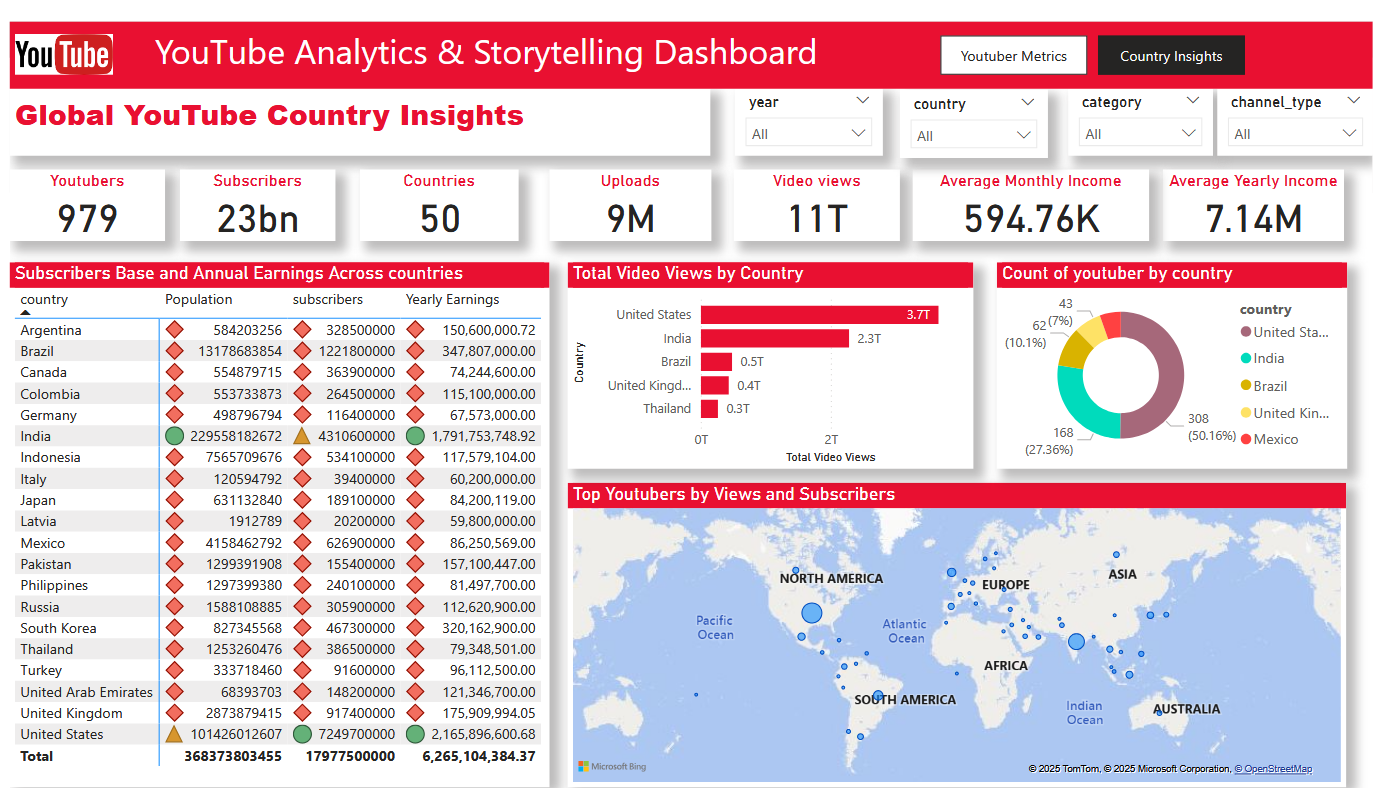

What the dashboard file says about the page in this screenshot:
{"tool":"powerbi","page":{"name":"Country Insights","canvas":[1280,720],"ordinal":1},"visuals":[{"type":"textbox","box":[0,0,1280,62.8],"z":0,"group":"g1"},{"type":"slicer","fields":{"Values":["calender.year"]},"box":[681,61.9,139.3,63.8],"z":0},{"type":"slicer","fields":{"Values":["GLOBAL YOUTUBE DATA.category"]},"box":[994.4,61.9,135.4,63.8],"z":1000},{"type":"slicer","fields":{"Values":["GLOBAL YOUTUBE DATA.channel_type"]},"box":[1133.6,61.9,147,63.8],"z":2000},{"type":"textbox","box":[0,62.8,658.2,62.8],"z":3000},{"type":"card","title":"Youtubers","fields":{"Values":["DAX Measures.total youtubers"]},"box":[0,139.3,145.7,66.4],"z":4000},{"type":"card","title":"Subscribers","fields":{"Values":["DAX Measures.total subscribers"]},"box":[160.3,139.3,145.7,66.4],"z":5000},{"type":"card","title":"Countries","fields":{"Values":["DAX Measures.total countries"]},"box":[328.7,139.3,149,66.4],"z":6000},{"type":"card","title":"Uploads","fields":{"Values":["DAX Measures.total uploads"]},"box":[506.8,139.3,152.2,66.4],"z":7000},{"type":"card","title":"Video views","fields":{"Values":["DAX Measures.total video views"]},"box":[680.1,139.3,155.4,66.4],"z":8000},{"type":"card","title":"Average Yearly Income","fields":{"Values":["DAX Measures.avg yearly earning"]},"box":[1083.3,139.3,170,66.4],"z":9000},{"type":"card","title":"Average  Monthly  Income","fields":{"Values":["DAX Measures.avg monthly earnings"]},"box":[848.5,139.3,221.8,66.4],"z":10000},{"type":"slicer","fields":{"Values":["GLOBAL YOUTUBE DATA.country"]},"box":[835.7,63.8,139.3,63.8],"z":11000},{"type":"pivotTable","title":"Subscribers  Base and Annual Earnings Across countries","fields":{"Rows":["GLOBAL YOUTUBE DATA.country"],"Values":["Sum(GLOBAL YOUTUBE DATA.population)","Sum(GLOBAL YOUTUBE DATA.subscribers)","Sum(GLOBAL YOUTUBE DATA.highest_yearly_earnings)"]},"box":[0,225.9,506.8,493.5],"z":12000},{"type":"map","title":"Top Youtubers by Views and Subscribers","fields":{"X":["GLOBAL YOUTUBE DATA.longitude"],"Y":["GLOBAL YOUTUBE DATA.latitude"],"Size":["Sum(GLOBAL YOUTUBE DATA.subscribers)"]},"box":[523.9,432.8,730.8,286.6],"z":13000},{"type":"donutChart","fields":{"Category":["GLOBAL YOUTUBE DATA.country"],"Y":["Count(GLOBAL YOUTUBE DATA.youtuber)"]},"box":[926.6,226.3,328.9,193.5],"z":14000},{"type":"barChart","title":"Total Video Views by Country","fields":{"Y":["Sum(GLOBAL YOUTUBE DATA.video_views)"],"Category":["GLOBAL YOUTUBE DATA.country"]},"box":[524.3,226.3,381.1,193.5],"z":15000},{"type":"group","id":"g1","title":"Group 1","box":[0,0,1280,62.8],"z":16000},{"type":"image","box":[0,6.5,102,48.6],"z":16001,"group":"g1"},{"type":"pageNavigator","box":[874.4,13,286.6,37.2],"z":16001}]}

Visuals, with their boxes on the page's 1280x720 design canvas (x1, y1, x2, y2). These are canvas units, not pixel positions in the 1379x801 screenshot, which may show the page scaled, cropped or inside an application window:
textbox: (0, 0, 1280, 63)
slicer - calender.year: (681, 62, 820, 126)
slicer - GLOBAL YOUTUBE DATA.category: (994, 62, 1130, 126)
slicer - GLOBAL YOUTUBE DATA.channel_type: (1134, 62, 1281, 126)
textbox: (0, 63, 658, 126)
"Youtubers" card: (0, 139, 146, 206)
"Subscribers" card: (160, 139, 306, 206)
"Countries" card: (329, 139, 478, 206)
"Uploads" card: (507, 139, 659, 206)
"Video views" card: (680, 139, 836, 206)
"Average Yearly Income" card: (1083, 139, 1253, 206)
"Average  Monthly  Income" card: (848, 139, 1070, 206)
slicer - GLOBAL YOUTUBE DATA.country: (836, 64, 975, 128)
"Subscribers  Base and Annual Earnings Across countries" pivotTable: (0, 226, 507, 719)
"Top Youtubers by Views and Subscribers" map: (524, 433, 1255, 719)
donutChart - GLOBAL YOUTUBE DATA.country x Count(GLOBAL YOUTUBE DATA.youtuber): (927, 226, 1256, 420)
"Total Video Views by Country" barChart: (524, 226, 905, 420)
"Group 1" group: (0, 0, 1280, 63)
image: (0, 6, 102, 55)
pageNavigator: (874, 13, 1161, 50)
